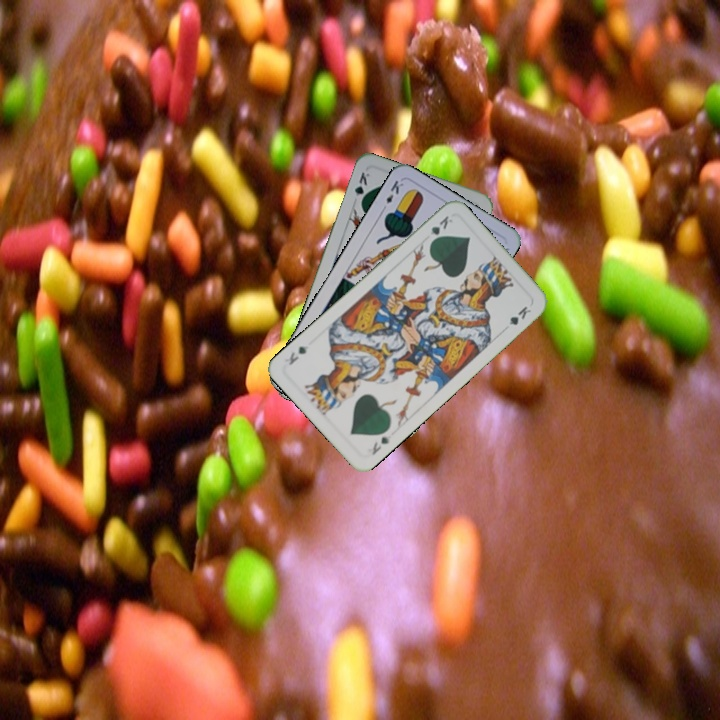EK: (377, 176, 406, 214)
GK: (425, 211, 455, 246), (351, 168, 372, 208), (368, 432, 392, 458)
